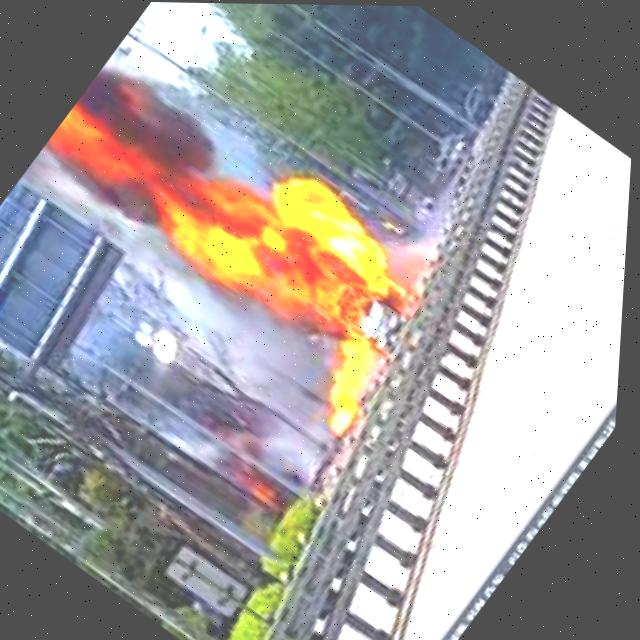Fire: (0, 40, 474, 442), (311, 337, 399, 431)
